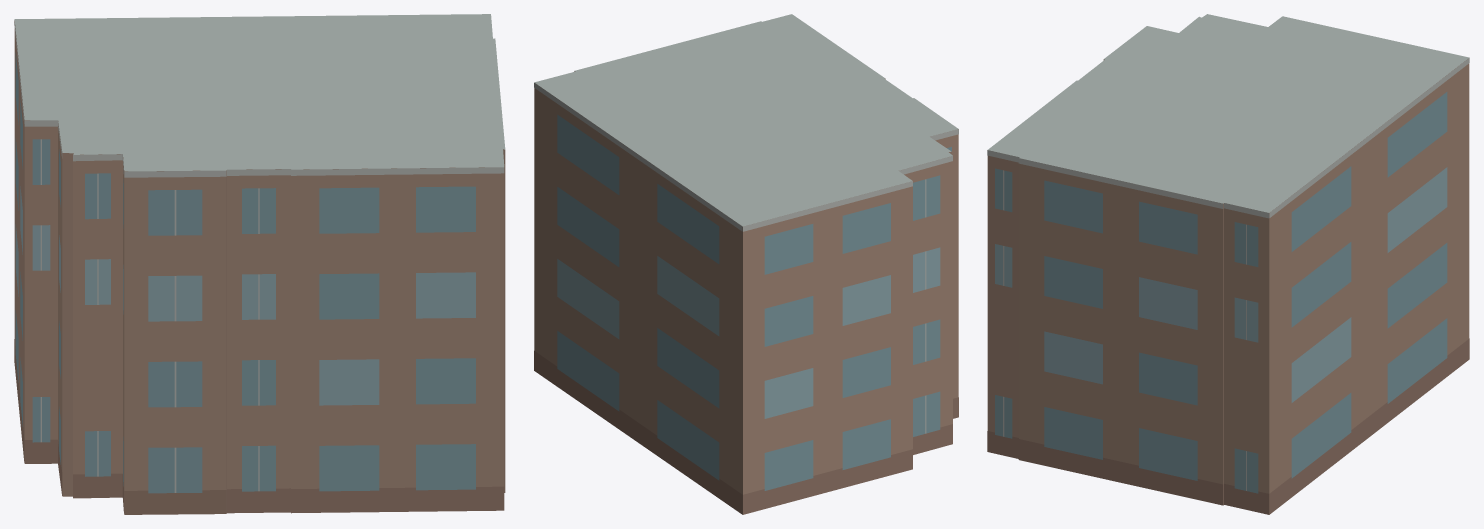
Rendered from survey-upis-32670895.glb.
The picture shows the model from 3 angles, left to right: view 1: azimuth 30°, elevation 25°; view 2: azimuth 150°, elevation 25°; view 3: azimuth 270°, elevation 25°; orthographic projection. The views are drawn at different scales.
Parts seen in each view (by area): view 1: survey-upis-32670895.tmp; view 2: survey-upis-32670895.tmp; view 3: survey-upis-32670895.tmp.
Part boxes in pixels (x1,y1,x2,y2): survey-upis-32670895.tmp: (14, 14, 505, 514); survey-upis-32670895.tmp: (534, 14, 958, 514); survey-upis-32670895.tmp: (987, 14, 1469, 514).
Bounding box in the file's own units: 18.85 × 13.33 × 19.3.
